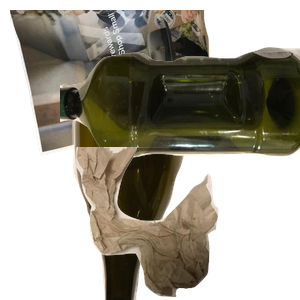glass: (71, 120, 254, 300)
paper: (10, 10, 233, 158)
plastic: (60, 44, 300, 195)
trash: (73, 147, 300, 300)
